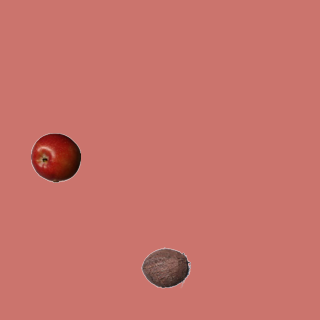Apple Braeburn: (30, 132, 80, 182)
Cocos: (140, 242, 190, 292)
